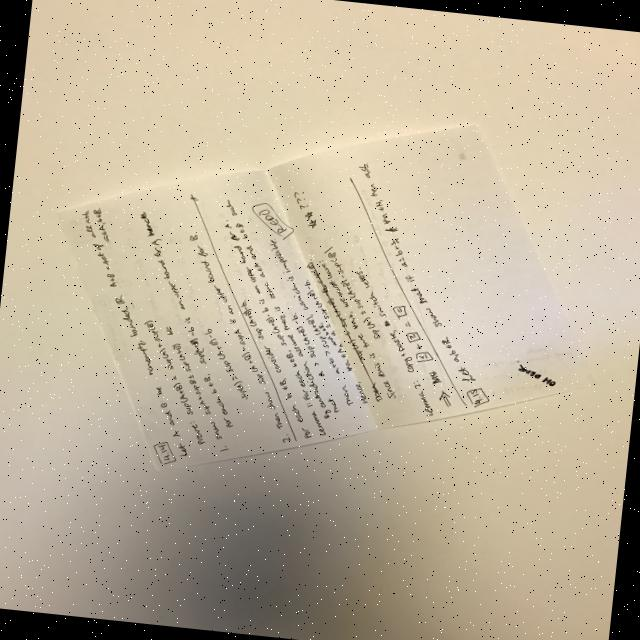paper: (28, 80, 622, 516)
